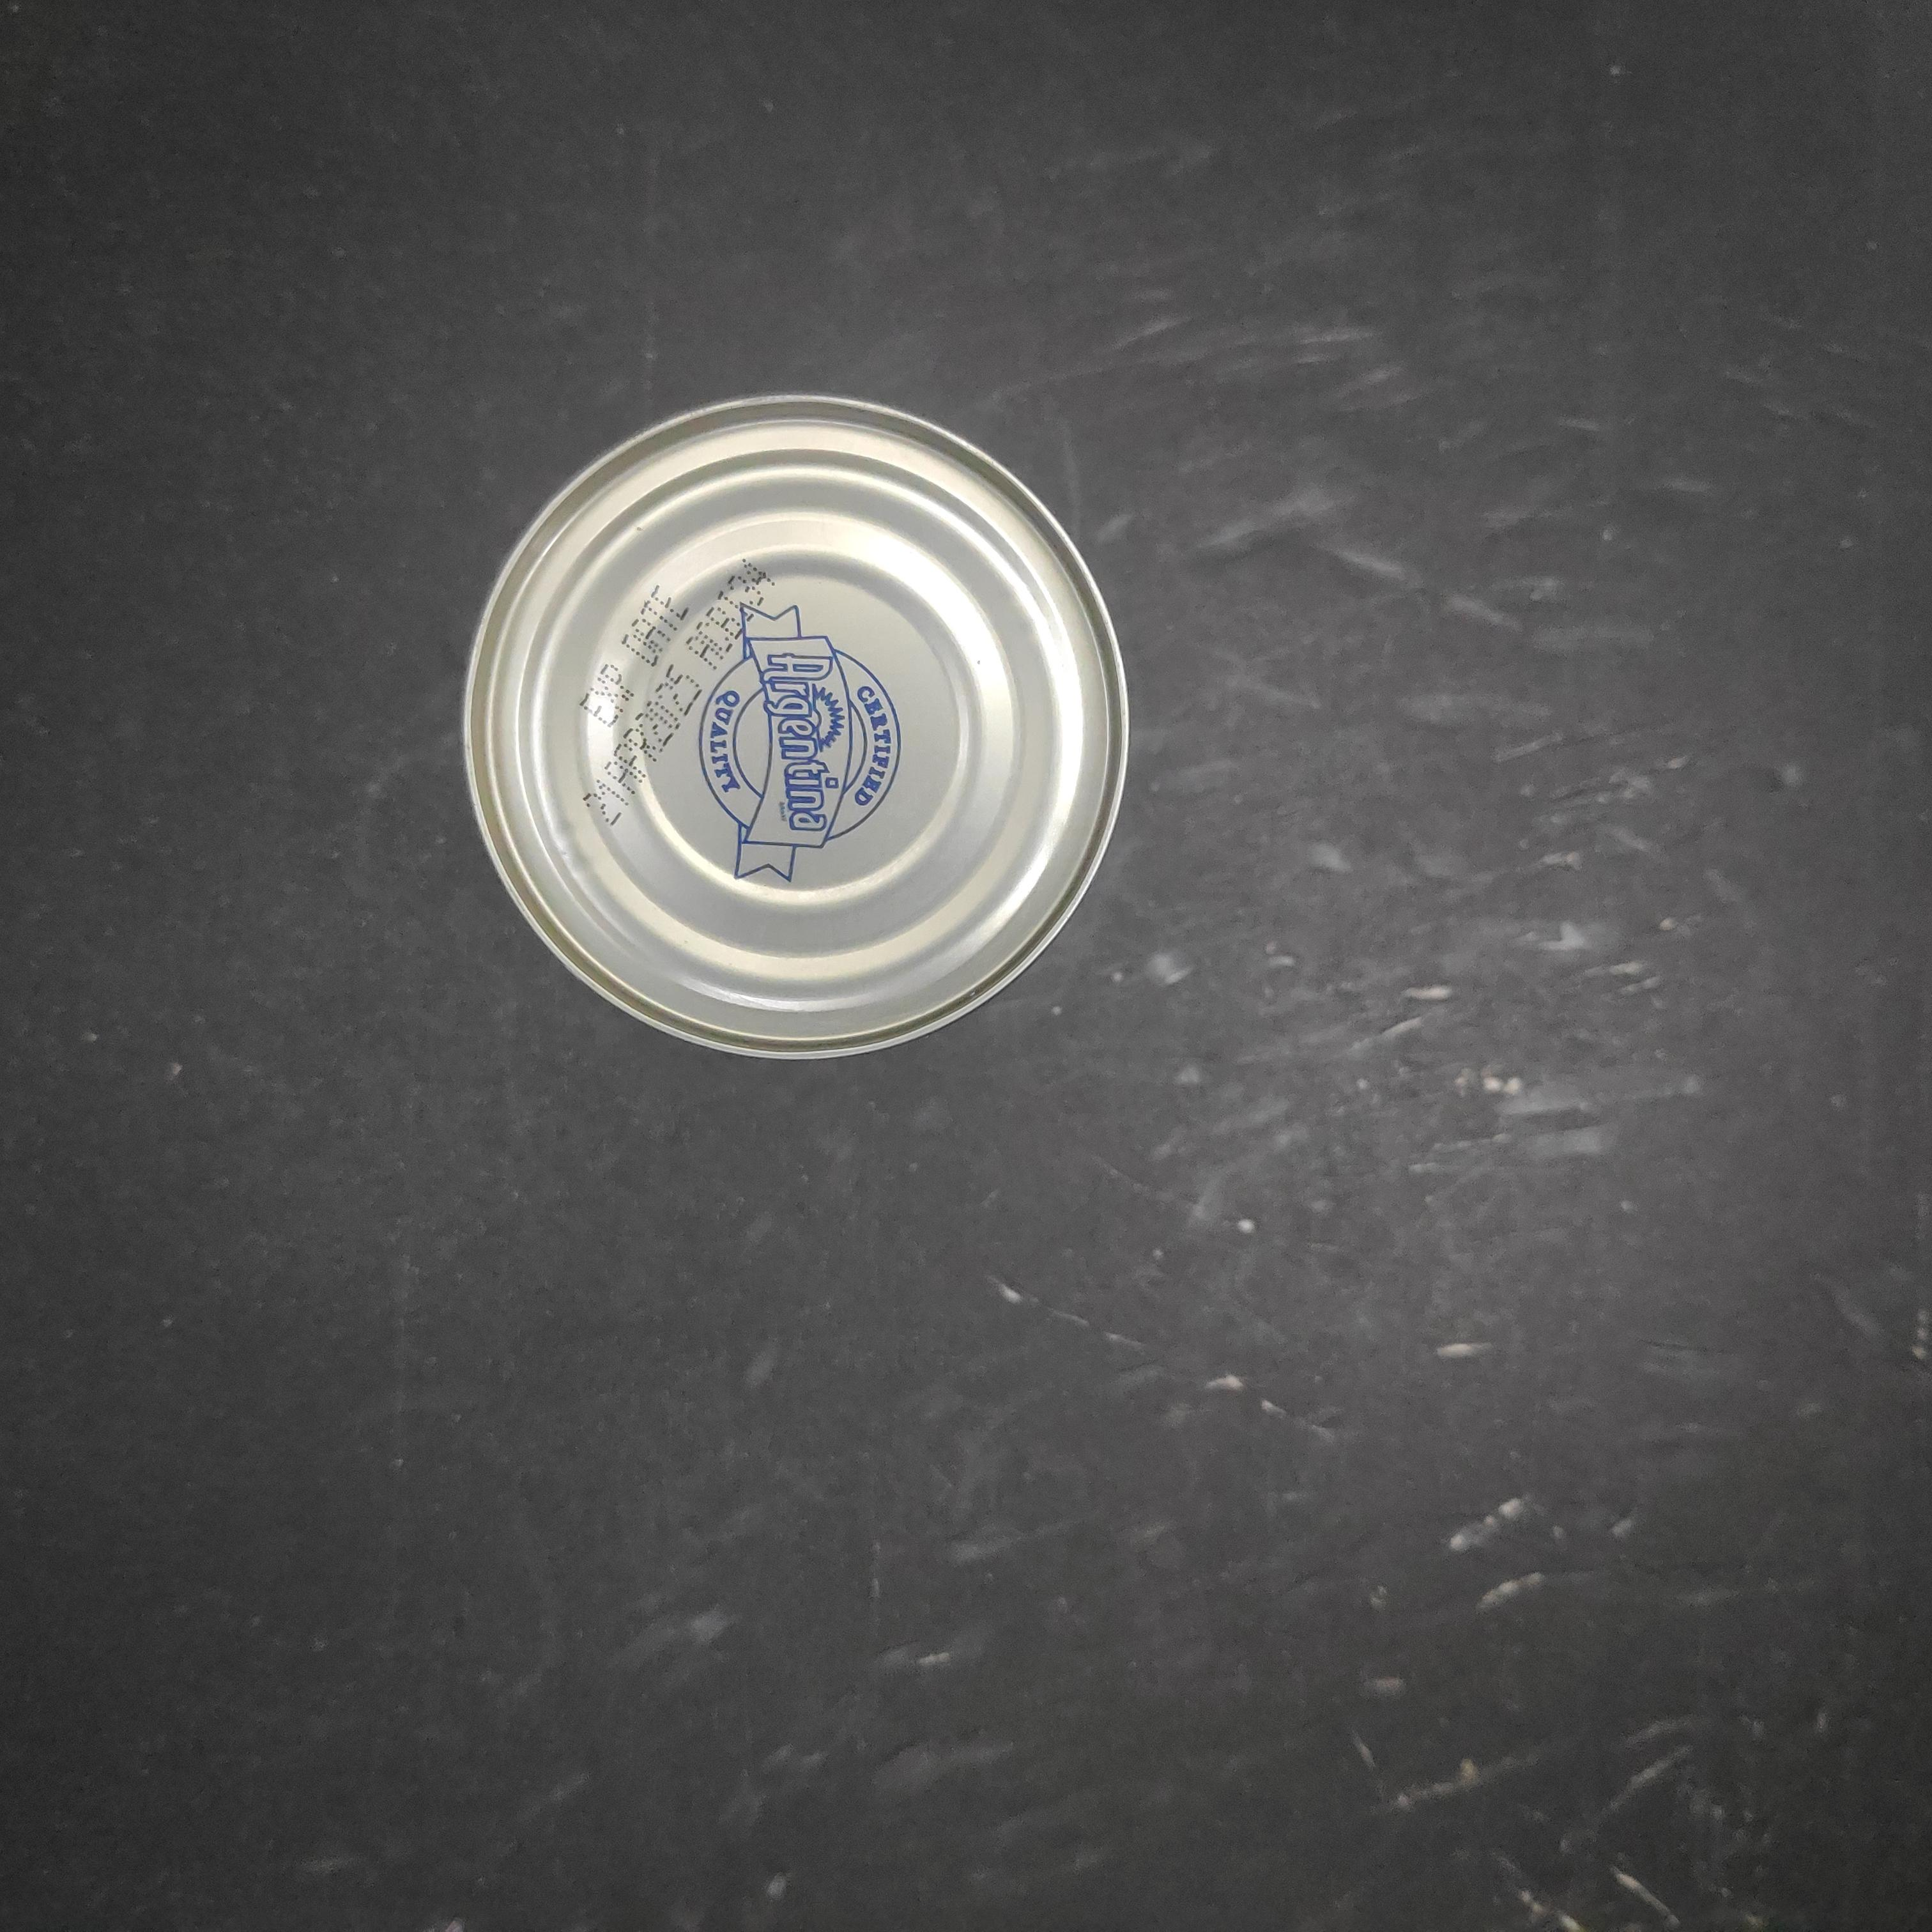No defect: (451, 380, 1154, 1074)
